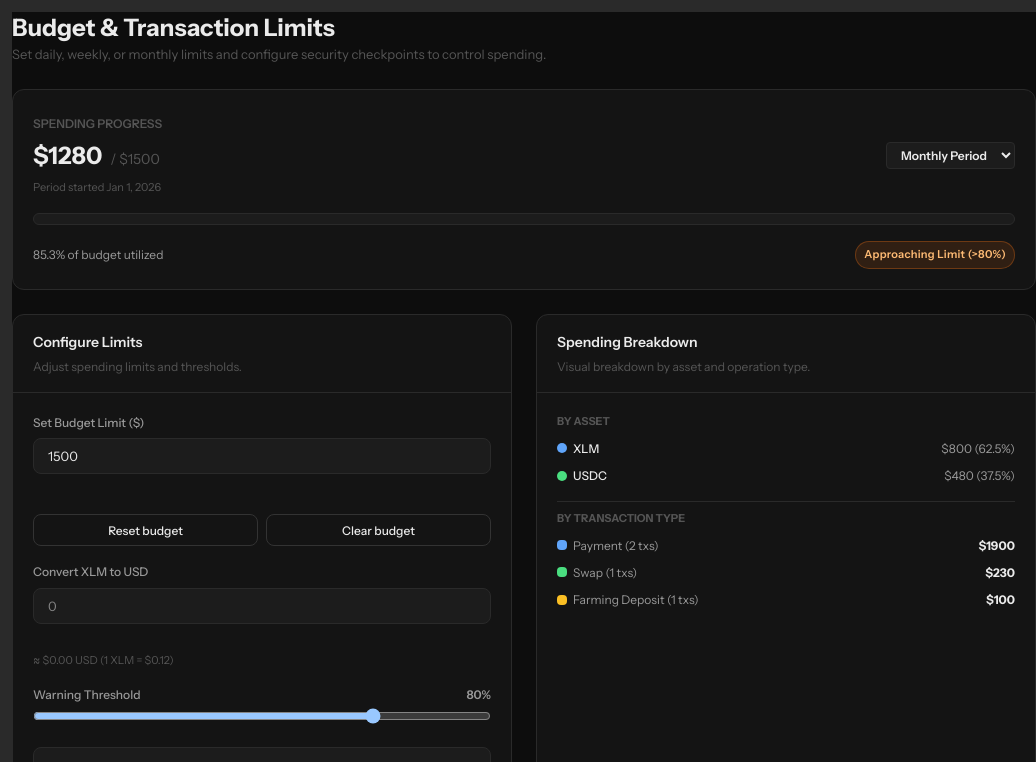
Scenario: BudgetScreen › shows critical warning badge and banner above 90%
Replace the text in the number field labelled "Set Budget Limit ($)" with "1400": [262, 456] box x1=33 y1=438 x2=491 y2=474
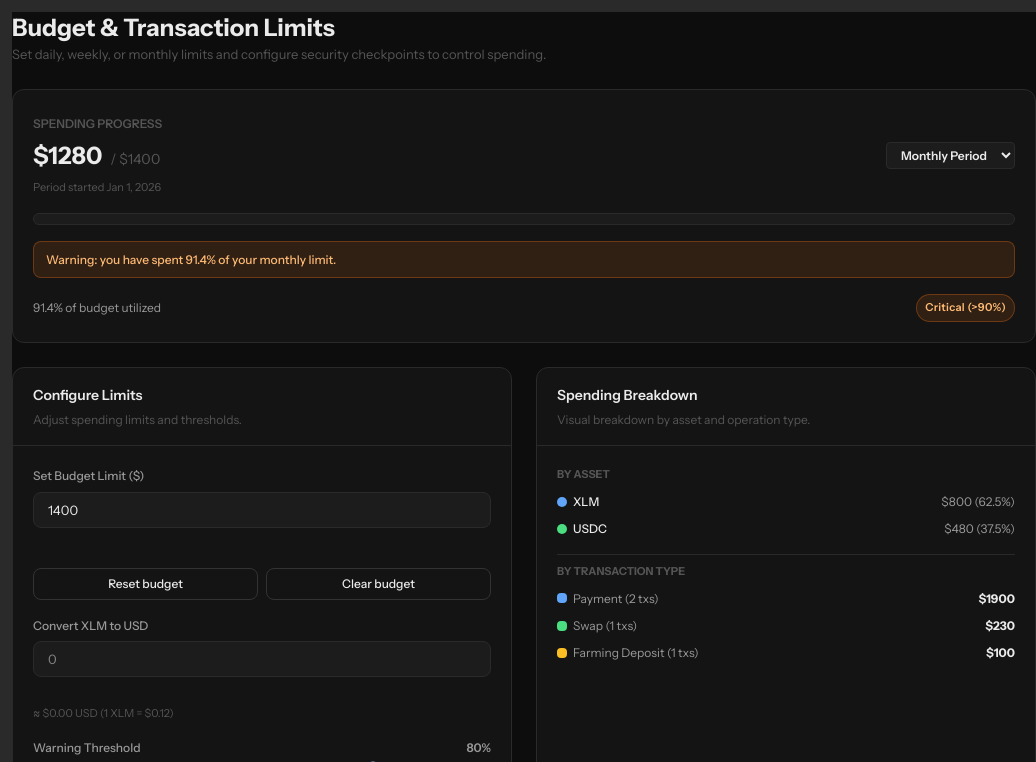
expect the text "Critical (>90%)" is shown: met, box x1=916 y1=294 x2=1015 y2=322
expect the message with test id "budget-alert-banner" shows "Warning": met, box x1=46 y1=252 x2=336 y2=267
